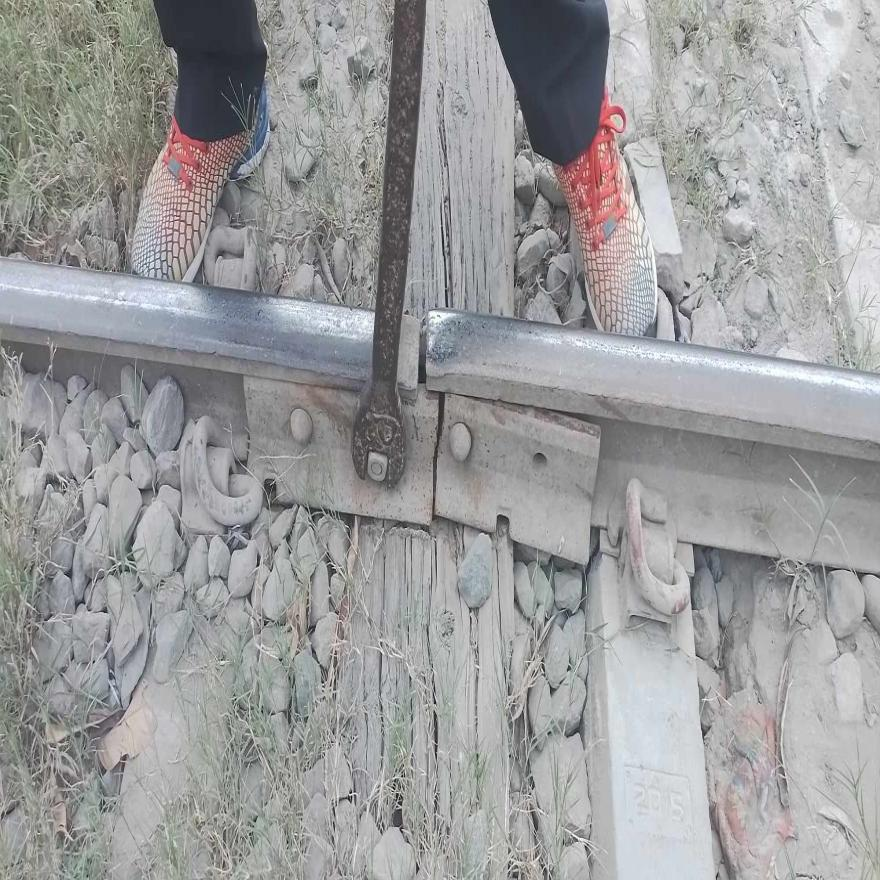railway-gap: (408, 377, 464, 534), (402, 308, 448, 397)
